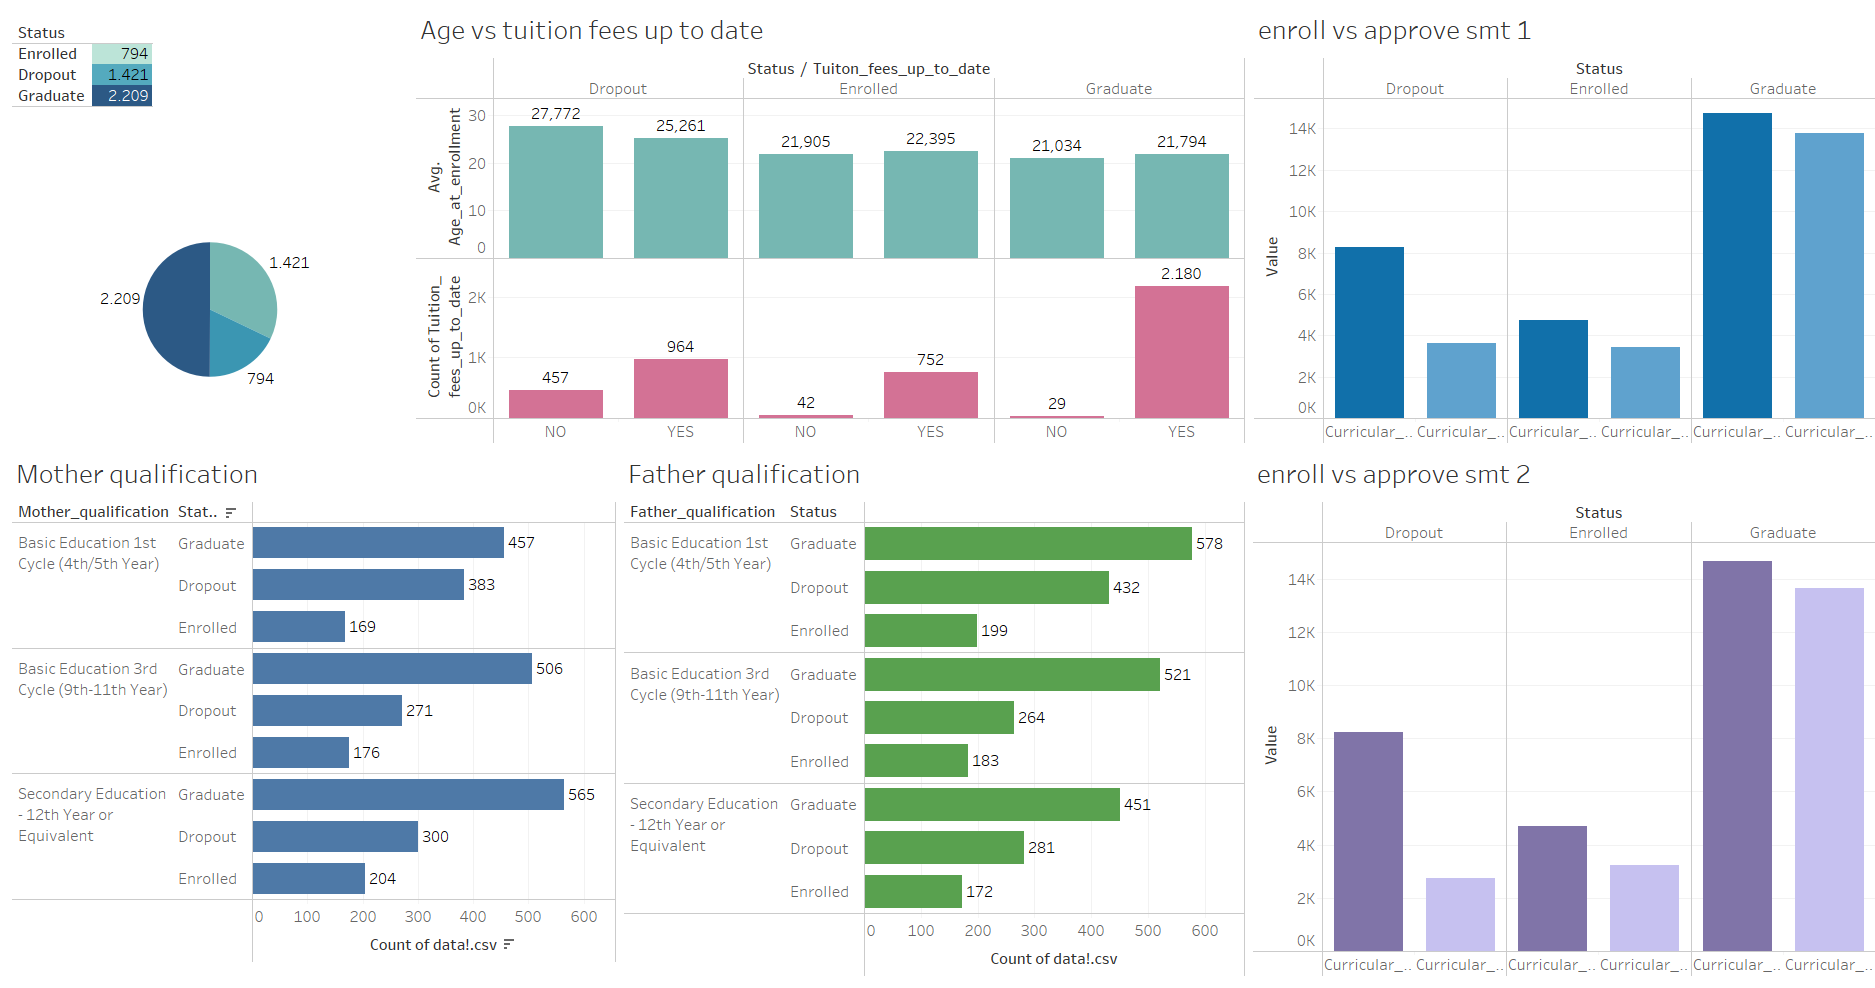

The page's visual inventory and layout, read from the dashboard file:
{"tool":"tableau","page":{"name":"Dashboard 1","canvas":[1000,1000],"units":"permille","ordinal":0},"visuals":[{"type":"worksheet","title":"Sheet 9","mark":"Square","rows":["Status"],"box":[4.8,10,209.7,152.3]},{"type":"worksheet","title":"Sheet 7","mark":"Automatic","rows":["Age_at_enrollment","Tuition_fees_up_to_date"],"cols":["Status","Tuiton_fees_up_to_date"],"box":[214.6,10,434.4,445.7]},{"type":"worksheet","title":"Sheet 8","mark":"Automatic","cols":["Status"],"box":[649,10,326.9,445.7]},{"type":"legend","title":"Sheet 2","param":"[federated.1im60wt1tem7y1132tp5i08pykao].[none:Status:nk]","box":[975.9,10,19.3,116.1]},{"type":"legend","title":"Sheet 2","param":"[federated.1im60wt1tem7y1132tp5i08pykao].[__tableau_internal_object_id__].[cnt:d","box":[975.9,126.1,19.3,63.7]},{"type":"worksheet","title":"Sheet 2","mark":"Pie","box":[4.8,162.3,209.7,293.4]},{"type":"legend","title":"Sheet 9","param":"[federated.1im60wt1tem7y1132tp5i08pykao].[__tableau_internal_object_id__].[cnt:d","box":[975.9,189.8,19.3,91.1]},{"type":"highlighter","title":"Sheet 1 (2)","param":"[federated.1im60wt1tem7y1132tp5i08pykao].[none:Status:nk]","box":[975.9,280.9,19.3,69.9]},{"type":"highlighter","title":"Sheet 1","param":"[federated.1im60wt1tem7y1132tp5i08pykao].[none:Status:nk]","box":[975.9,350.8,19.3,69.9]},{"type":"legend","title":"Sheet 8","param":"[federated.1im60wt1tem7y1132tp5i08pykao].[:Measure Names]","box":[975.9,420.8,19.3,89.9]},{"type":"worksheet","title":"Sheet 1","mark":"Automatic","rows":["Column1","Status"],"cols":["data!.csv_883632CDF1C94B438197CF27839856A7"],"box":[4.8,455.7,317.4,534.4]},{"type":"worksheet","title":"Sheet 1 (2)","mark":"Automatic","rows":["Father_qualification","Status"],"cols":["data!.csv_883632CDF1C94B438197CF27839856A7"],"box":[322.2,455.7,326.5,534.4]},{"type":"worksheet","title":"Sheet 8 (2)","mark":"Automatic","cols":["Status"],"box":[648.7,455.7,327.2,534.4]}]}

Visuals, with their boxes on the dashboard's canvas, which has no fixed pixel size, in thousandths of its width and height (x1, y1, x2, y2). These are canvas units, not pixel positions in the 1875x988 screenshot, which may show the page scaled, cropped or inside an application window:
"Sheet 9" worksheet (Square marks): Rect(5, 10, 214, 162)
"Sheet 7" worksheet: Rect(215, 10, 649, 456)
"Sheet 8" worksheet: Rect(649, 10, 976, 456)
"Sheet 2" legend: Rect(976, 10, 995, 126)
"Sheet 2" legend: Rect(976, 126, 995, 190)
"Sheet 2" worksheet (Pie marks): Rect(5, 162, 214, 456)
"Sheet 9" legend: Rect(976, 190, 995, 281)
"Sheet 1 (2)" highlighter: Rect(976, 281, 995, 351)
"Sheet 1" highlighter: Rect(976, 351, 995, 421)
"Sheet 8" legend: Rect(976, 421, 995, 511)
"Sheet 1" worksheet: Rect(5, 456, 322, 990)
"Sheet 1 (2)" worksheet: Rect(322, 456, 649, 990)
"Sheet 8 (2)" worksheet: Rect(649, 456, 976, 990)
